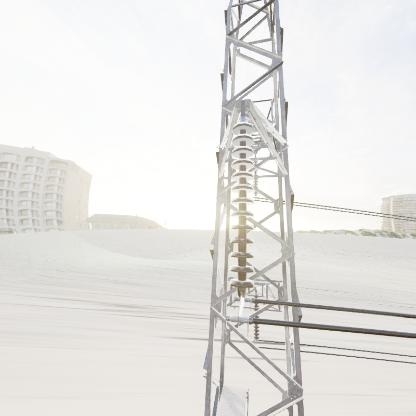insulator: (228, 121, 256, 305)
